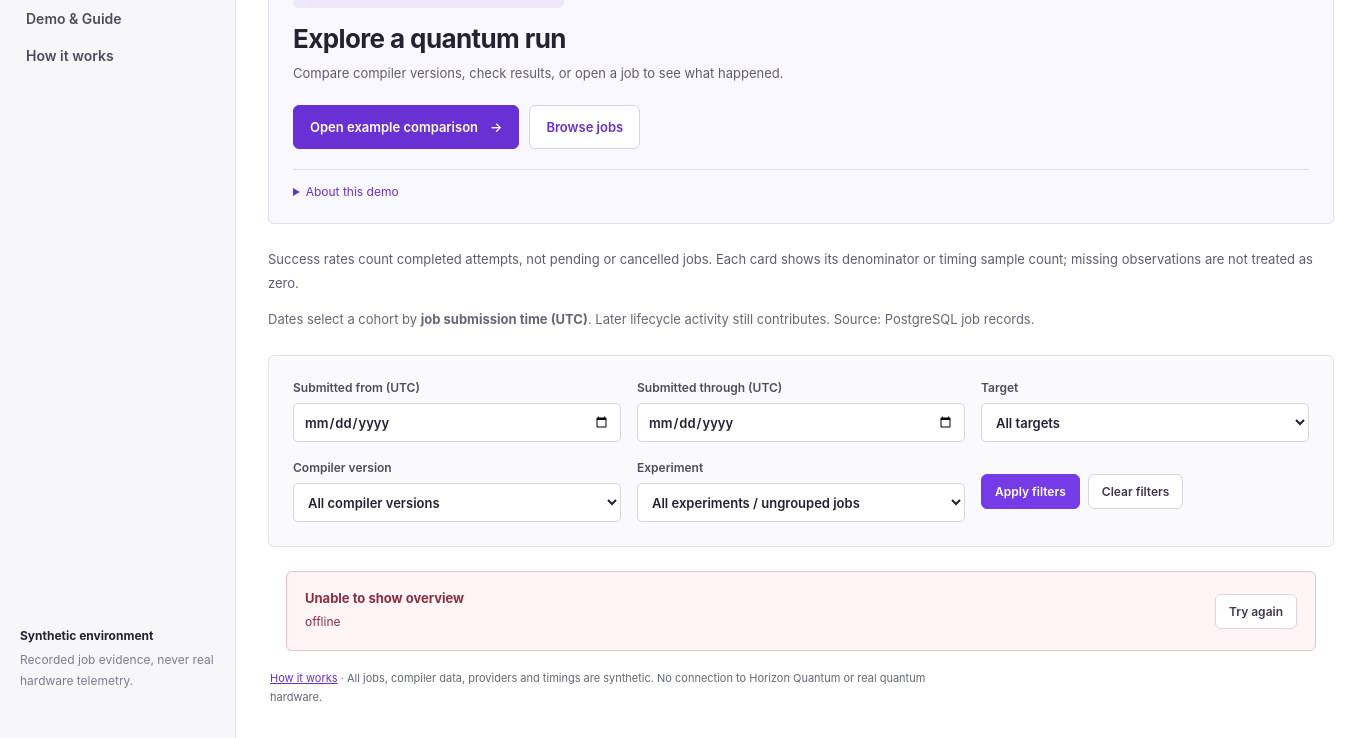
Test case: allows an overview error to retry without hiding the introduction
The width and height of the screenshot is (1366, 738).
(page scrolled)
Expected: the message shows "Unable to show overview", [305,590,464,606]
Expected: the link "Open example comparison →" is shown, [293,105,519,149]
Click the button "Try again" at (1256, 611), box [1215,594,1297,628]
(page scrolled)
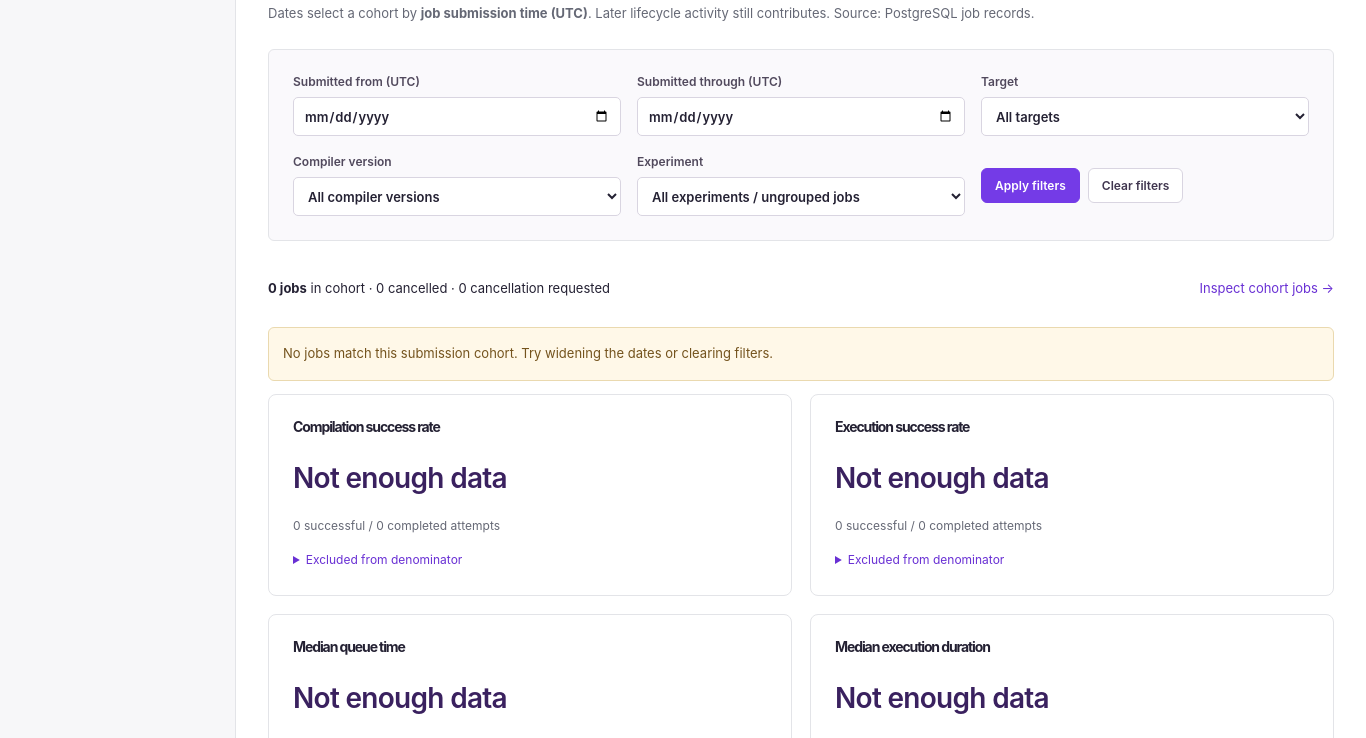
Now the text "No jobs match this submission cohort" is shown, box [283,346,773,362]
